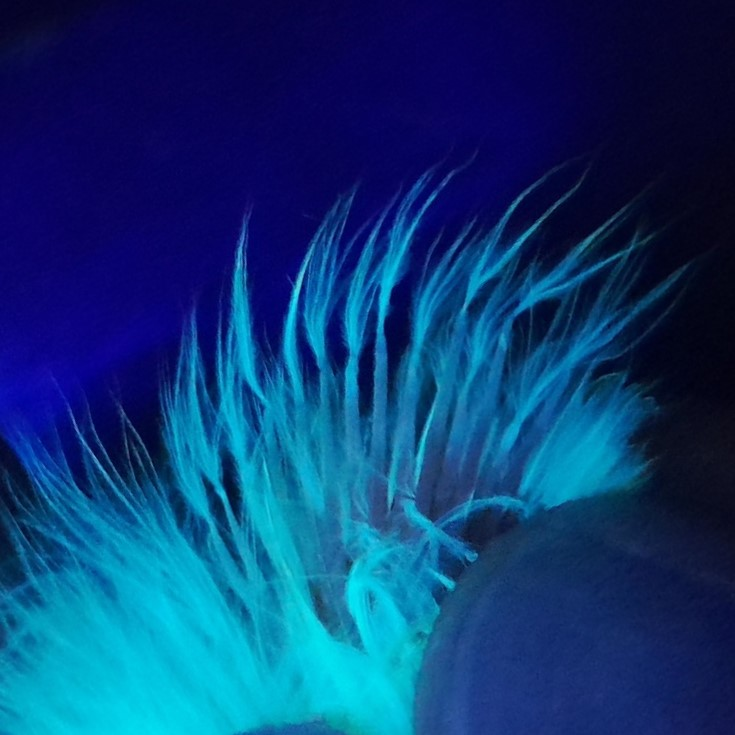male: (238, 294, 586, 610)
